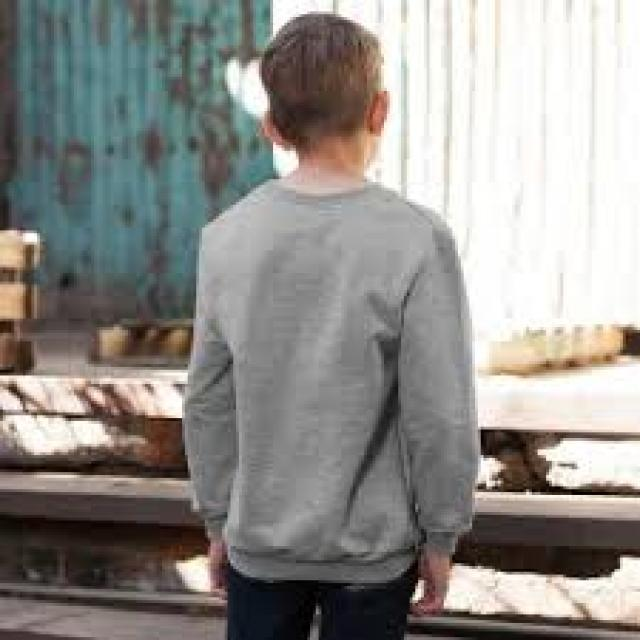plain: (183, 166, 473, 578)
